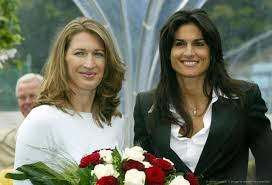No-Glasses: (69, 45, 107, 64), (169, 35, 209, 52)
